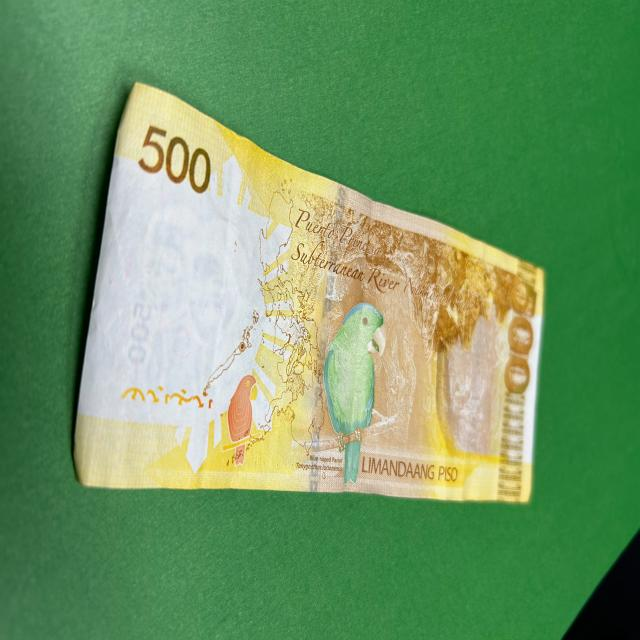security_thread: (298, 180, 361, 495)
value: (504, 280, 544, 398)
value_watermark: (116, 281, 156, 380)
